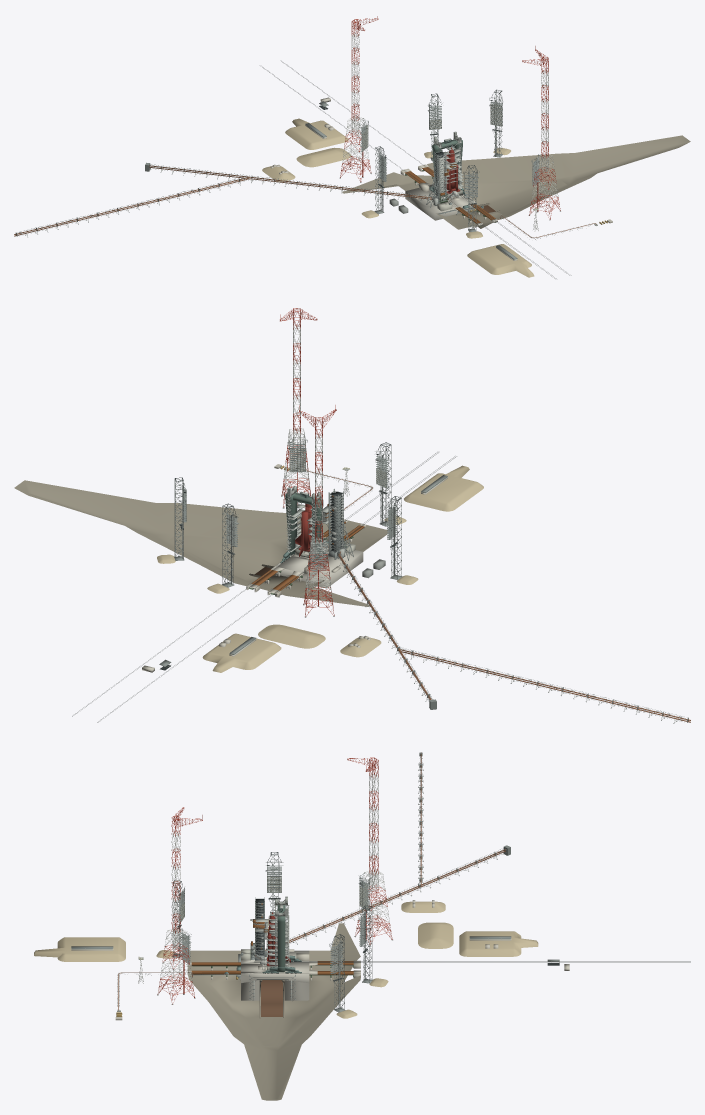
3 renders of one model, top to bottom at view 1: azimuth 30°, elevation 25°; view 2: azimuth 150°, elevation 25°; view 3: azimuth 270°, elevation 25°, orthographic. The views are drawn at different scales.
Parts seen in each view (by area): view 1: Line01, Box24, ChamferBox01, Box1412, Box604, Cylinder10, Line138, Line02, Box60, Line143, Box76739, Box49; view 2: Line01, Box24, ChamferBox01, Box1412, Box604, Line02, Cylinder10, Line138, Box13, Box49, Box60, Box76739; view 3: Line01, Box24, ChamferBox01, Box1412, Box604, Line02, Line138, Cylinder10, Box49, Box04, Box76739, Line143 (+2 smaller).
Boxes of the visible parts, <box> form: Line01: <box>342,135,690,229</box>; Box24: <box>15,90,601,259</box>; ChamferBox01: <box>262,118,534,277</box>; Box1412: <box>340,16,560,219</box>; Box604: <box>342,33,558,230</box>; Cylinder10: <box>14,165,596,238</box>; Line138: <box>25,107,597,239</box>; Line02: <box>405,184,476,227</box>; Box60: <box>270,97,612,260</box>; Line143: <box>405,164,495,223</box>; Box76739: <box>262,61,571,278</box>; Box49: <box>319,89,502,205</box>; Line01: <box>14,480,388,606</box>; Box24: <box>159,435,688,723</box>; ChamferBox01: <box>157,465,483,672</box>; Box1412: <box>280,308,336,616</box>; Box604: <box>283,325,349,598</box>; Line02: <box>275,543,363,597</box>; Cylinder10: <box>296,468,690,722</box>; Line138: <box>168,468,676,722</box>; Box13: <box>285,493,323,561</box>; Box49: <box>160,442,401,670</box>; Box60: <box>142,464,447,672</box>; Box76739: <box>72,452,456,722</box>; Line01: <box>187,923,360,1100</box>; Box24: <box>71,752,559,1012</box>; ChamferBox01: <box>34,901,538,1018</box>; Box1412: <box>157,757,392,1004</box>; Box604: <box>138,774,389,986</box>; Line02: <box>241,950,309,1000</box>; Line138: <box>117,762,559,1011</box>; Cylinder10: <box>118,752,505,1010</box>; Box49: <box>173,852,559,983</box>; Box04: <box>261,980,282,1016</box>; Box76739: <box>254,961,690,962</box>; Line143: <box>191,903,353,974</box>.
Size of the model in its own units: 590 by 172 by 494.
